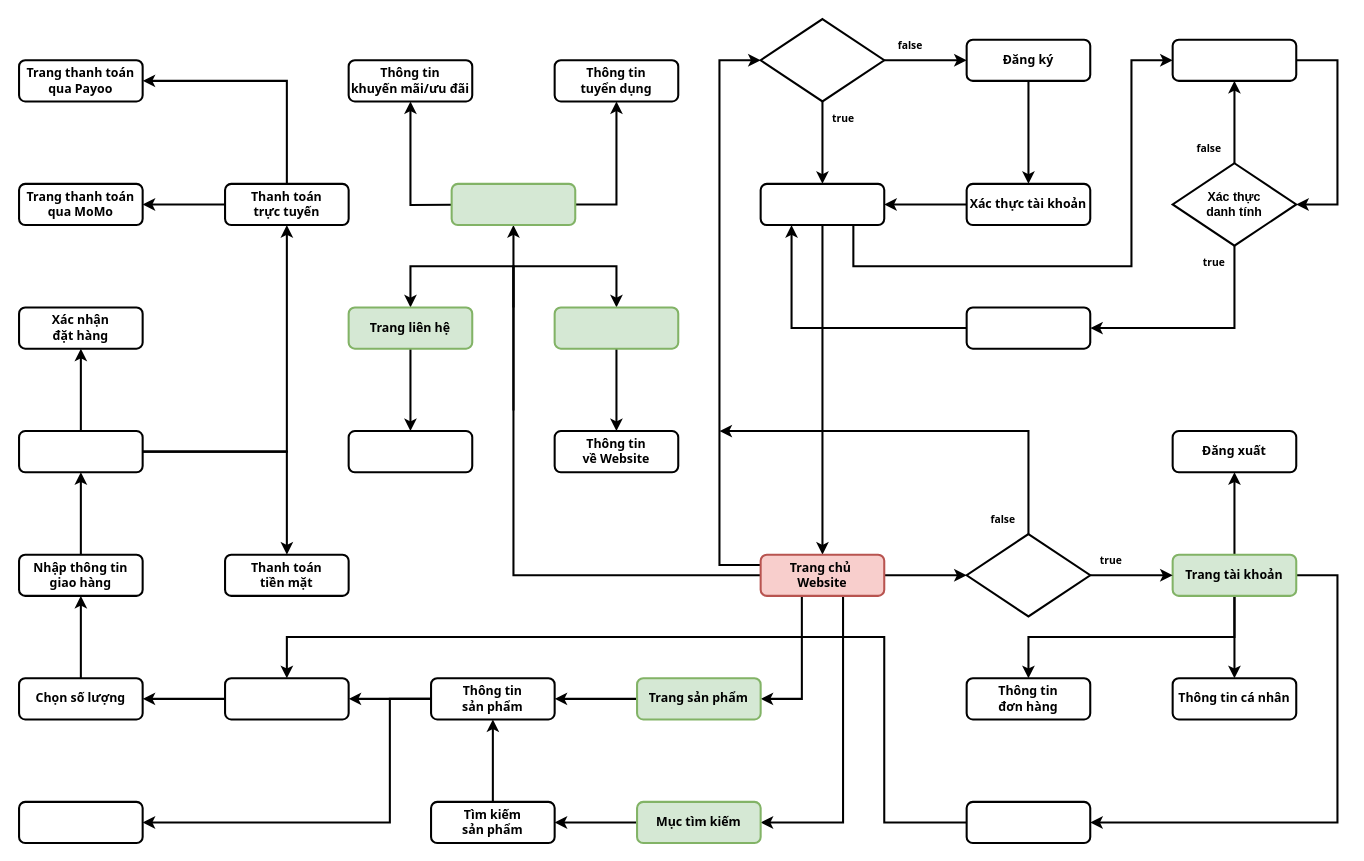
This 1364x861 diagram has some shape labels left out. The shapes that lost their labels are listed below. From the top down, each one's box as (x1, y1, x2, y2) in pixels, then its label:
(759, 18, 885, 102): Đã có tài khoản
(1171, 38, 1297, 81): Quên mật khẩu
(450, 182, 576, 226): Trang tin tức
(759, 182, 885, 226): Đăng nhập
(553, 306, 679, 349): Trang giới thiệu
(965, 306, 1091, 349): Đặt lại mật khẩu
(18, 430, 143, 473): Chọn phương thức thanh toán
(347, 430, 473, 473): Thông tin liên lạc
(965, 533, 1091, 617): Đã đăng nhập tài khoản
(224, 677, 349, 720): Đặt sản phẩm
(18, 800, 143, 844): Thêm sản phẩm vào giỏ hàng
(965, 800, 1091, 844): Thông tin giỏ hàng
